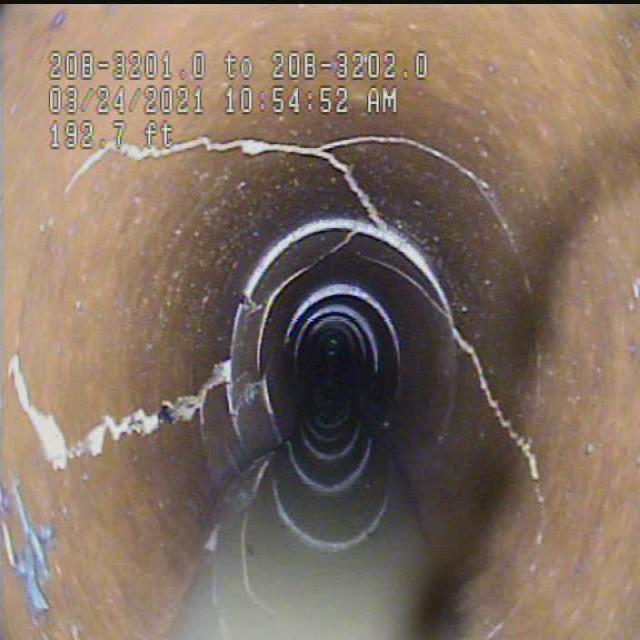Fracture: (424, 241, 543, 503), (238, 130, 488, 242), (12, 340, 218, 473)
